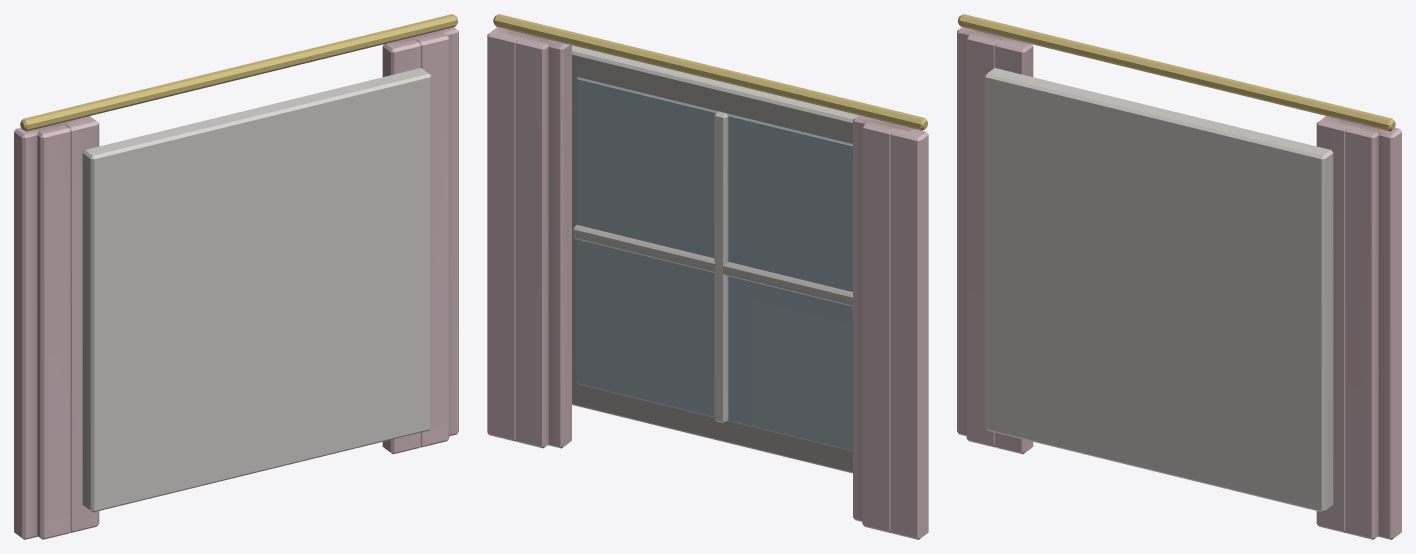
File: furn_curtain_window__pink.glb
The picture shows the model from 3 angles, left to right: view 1: azimuth 30°, elevation 25°; view 2: azimuth 150°, elevation 25°; view 3: azimuth 330°, elevation 25°; orthographic projection.
Size of the model in its own units: 1.41 by 1.29 by 0.175.
